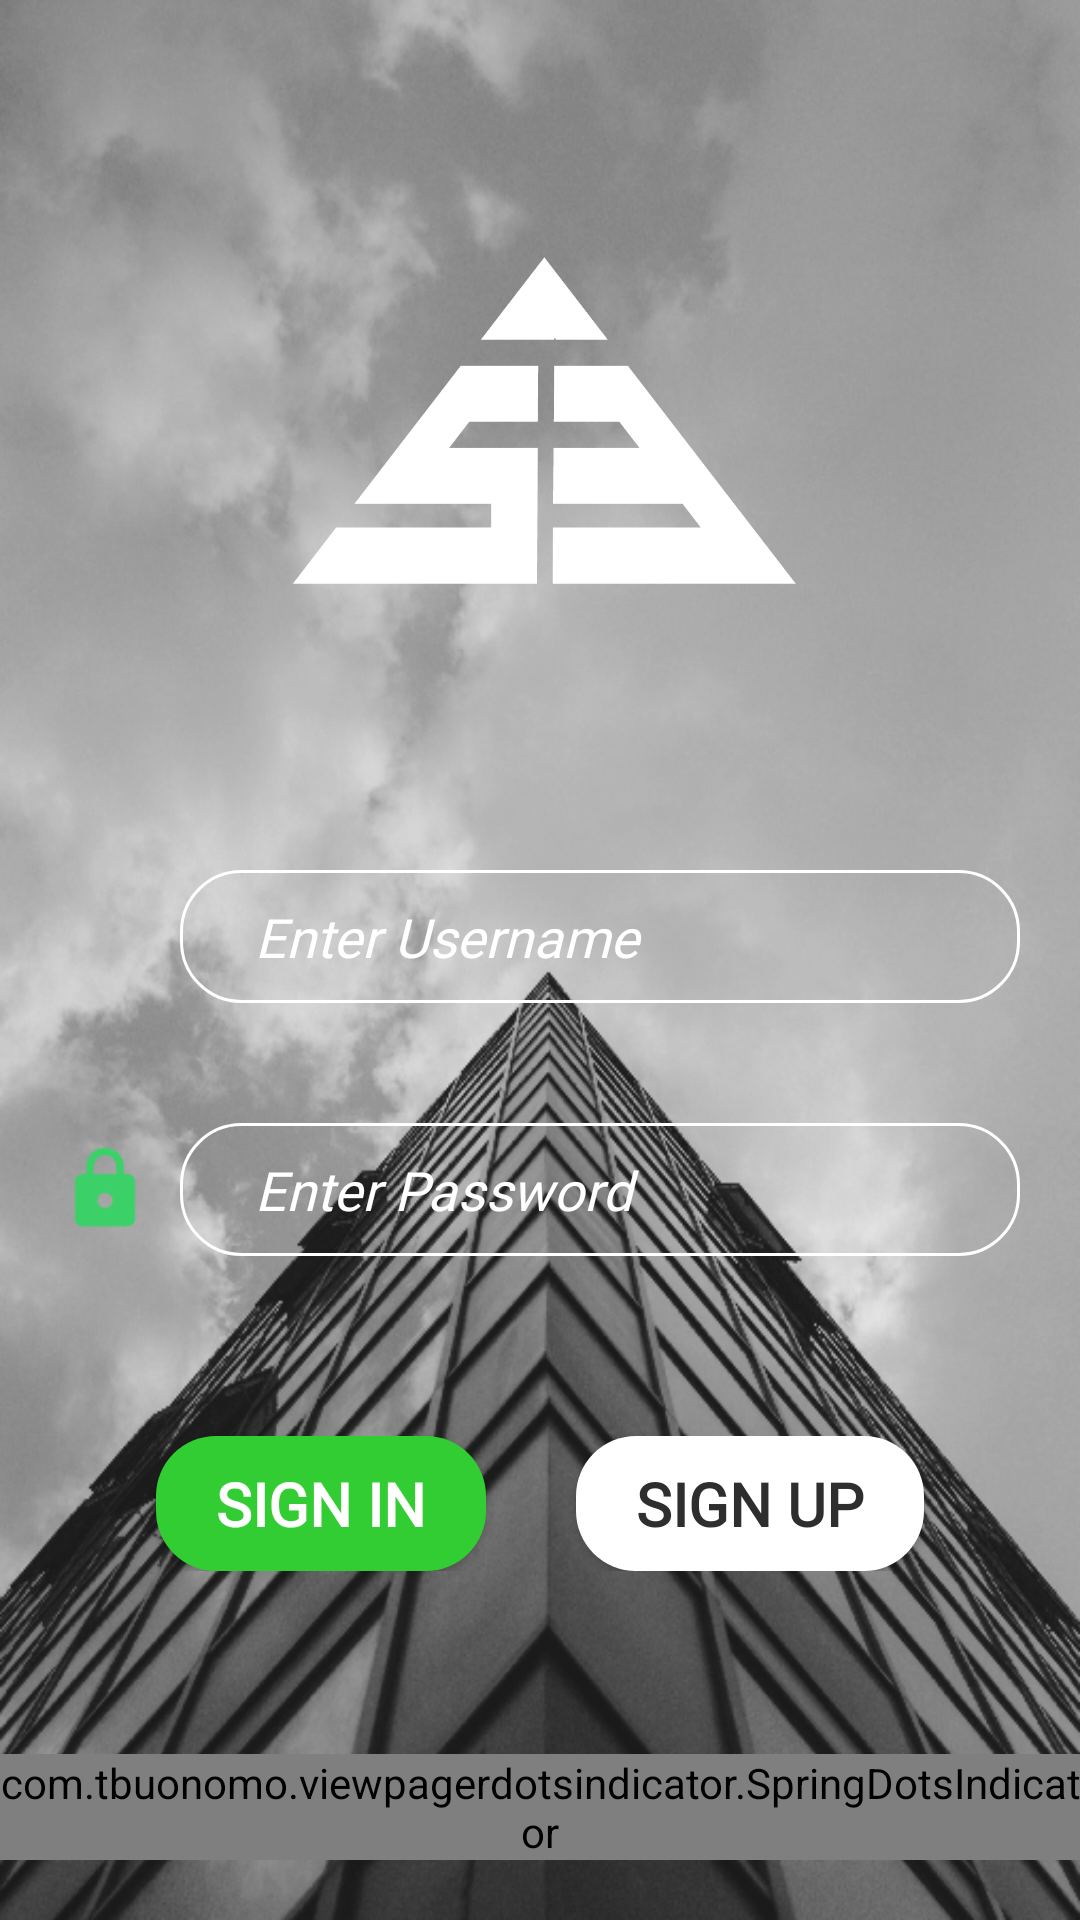

Icon bounding boxes for this 1080px×1920px phone screenshot, format bbox=(x1, y1, x2, y2):
lock login: bbox=(74, 1146, 146, 1227)
